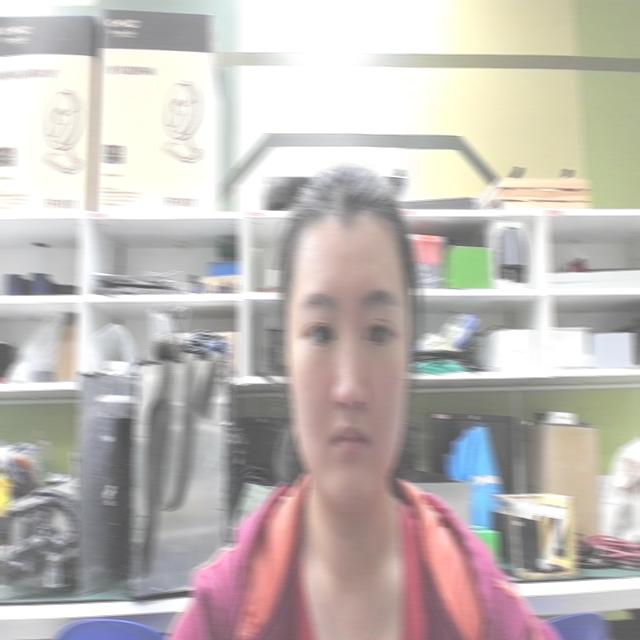Without Helmet: (240, 131, 465, 544)
